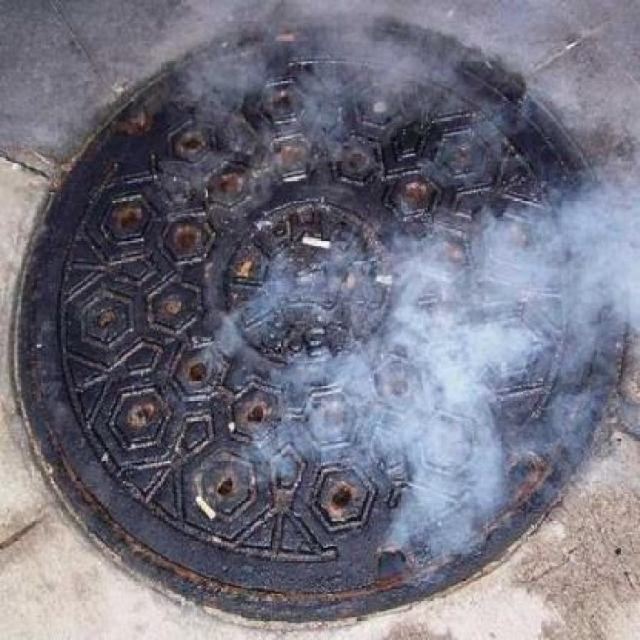Manhole: (11, 14, 632, 622)
